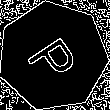P_NE: (22, 27, 84, 85)
